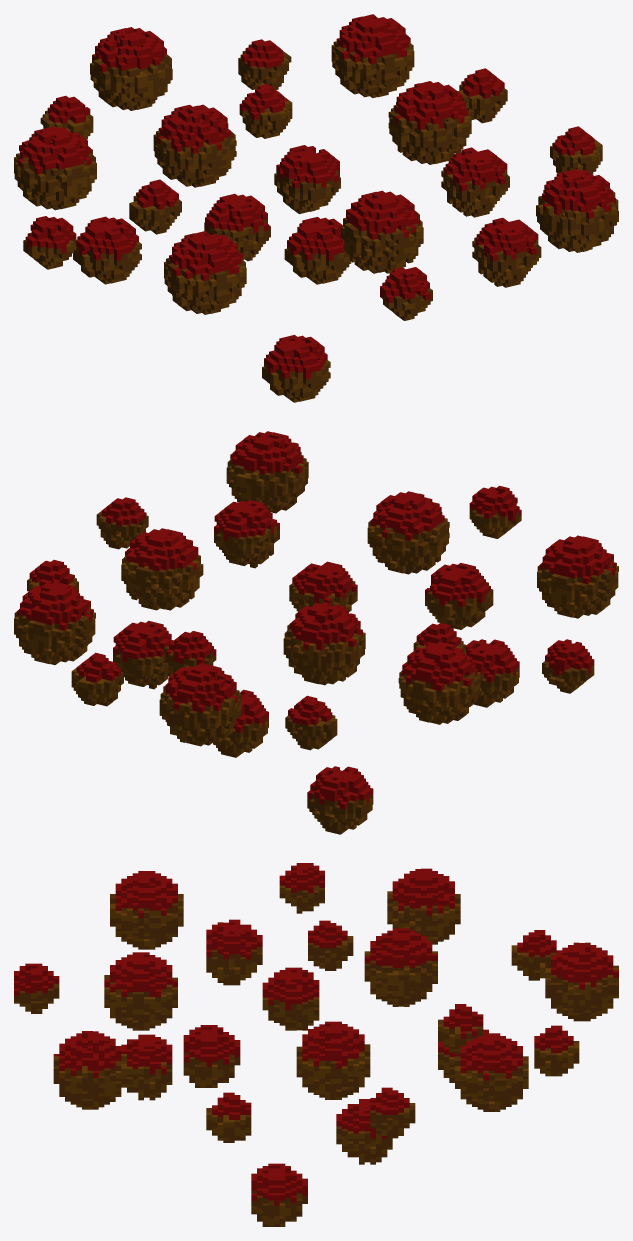
The model's file is meatballs_inner.obj.
3 views of the same model, one above another, from view 1: azimuth 30°, elevation 25°; view 2: azimuth 150°, elevation 25°; view 3: azimuth 270°, elevation 25° (orthographic). The views are drawn at different scales.
Parts seen in each view (by area): view 1: meatballs_inner; view 2: meatballs_inner; view 3: meatballs_inner.
Boxes of the visible parts, <box> form: meatballs_inner: <box>14,14,618,402</box>; meatballs_inner: <box>14,431,618,834</box>; meatballs_inner: <box>14,863,618,1226</box>.
Bounding box in the file's own units: 104 × 34 × 107.
1 material, 1 textured.
